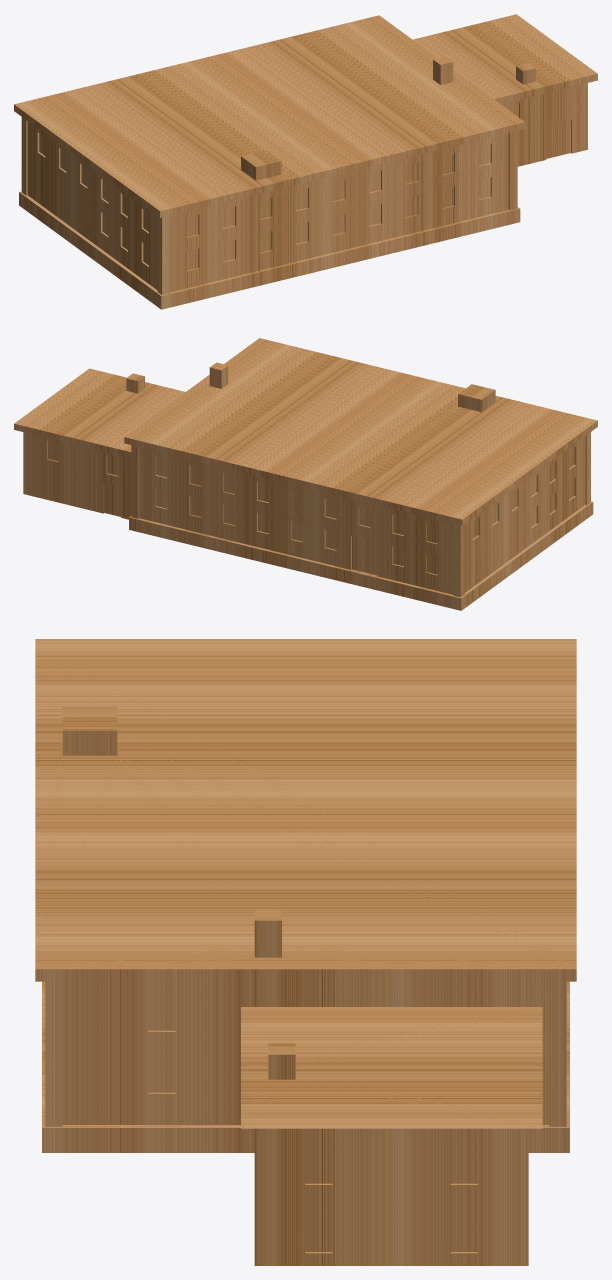
File: Warf.FBX
3 renders of one model, top to bottom at view 1: azimuth 30°, elevation 25°; view 2: azimuth 150°, elevation 25°; view 3: azimuth 270°, elevation 25°, orthographic. The views are drawn at different scales.
Parts seen in each view (by area): view 1: Model; view 2: Model; view 3: Model.
Boxes of the visible parts, x1,y1,x2,y2 form: Model: [14, 14, 597, 309]; Model: [14, 338, 597, 610]; Model: [35, 639, 576, 1265].
Bounding box in the file's own units: 0.3031 × 0.0709 × 0.1555.
Materials: 1 (1 with a texture image).
